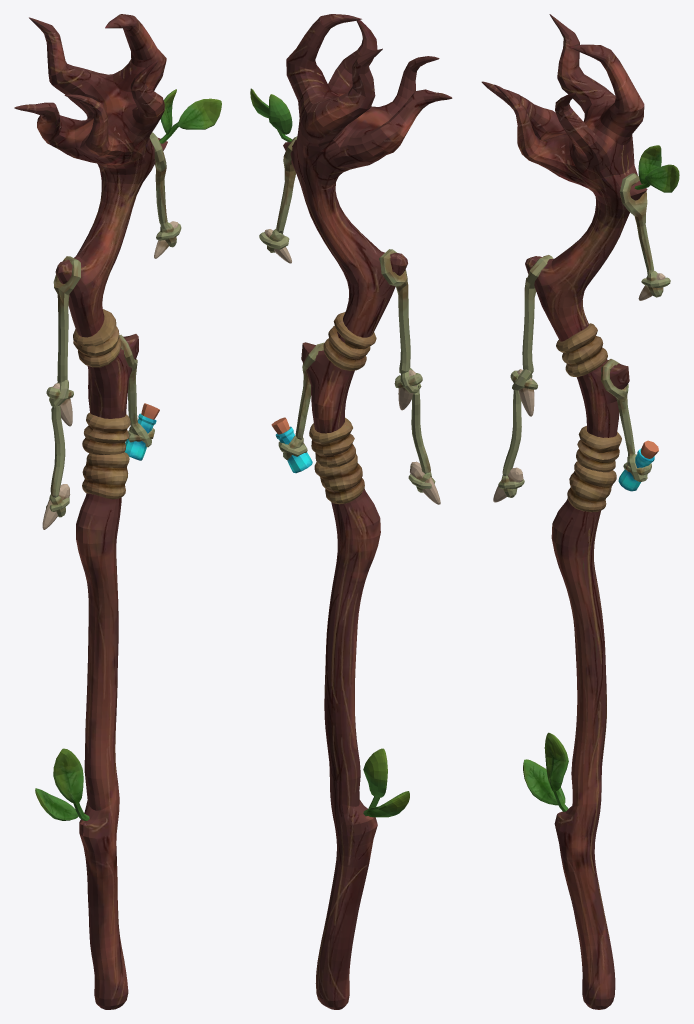
Rendered from staff.glb.
3 renders of one model, left to right at view 1: azimuth 30°, elevation 25°; view 2: azimuth 150°, elevation 25°; view 3: azimuth 330°, elevation 25°, orthographic. The views are drawn at different scales.
Parts seen in each view (by area): view 1: staff_low_Staff_MAT_0; view 2: staff_low_Staff_MAT_0; view 3: staff_low_Staff_MAT_0.
Boxes of the visible parts, x1=… form: staff_low_Staff_MAT_0: x1=14, y1=14, x2=221, y2=1009; staff_low_Staff_MAT_0: x1=250, y1=14, x2=452, y2=1009; staff_low_Staff_MAT_0: x1=481, y1=14, x2=679, y2=1009.
Size of the model in its own units: 2.91 by 13.5 by 1.53.
Materials: 1 (1 with a texture image).
